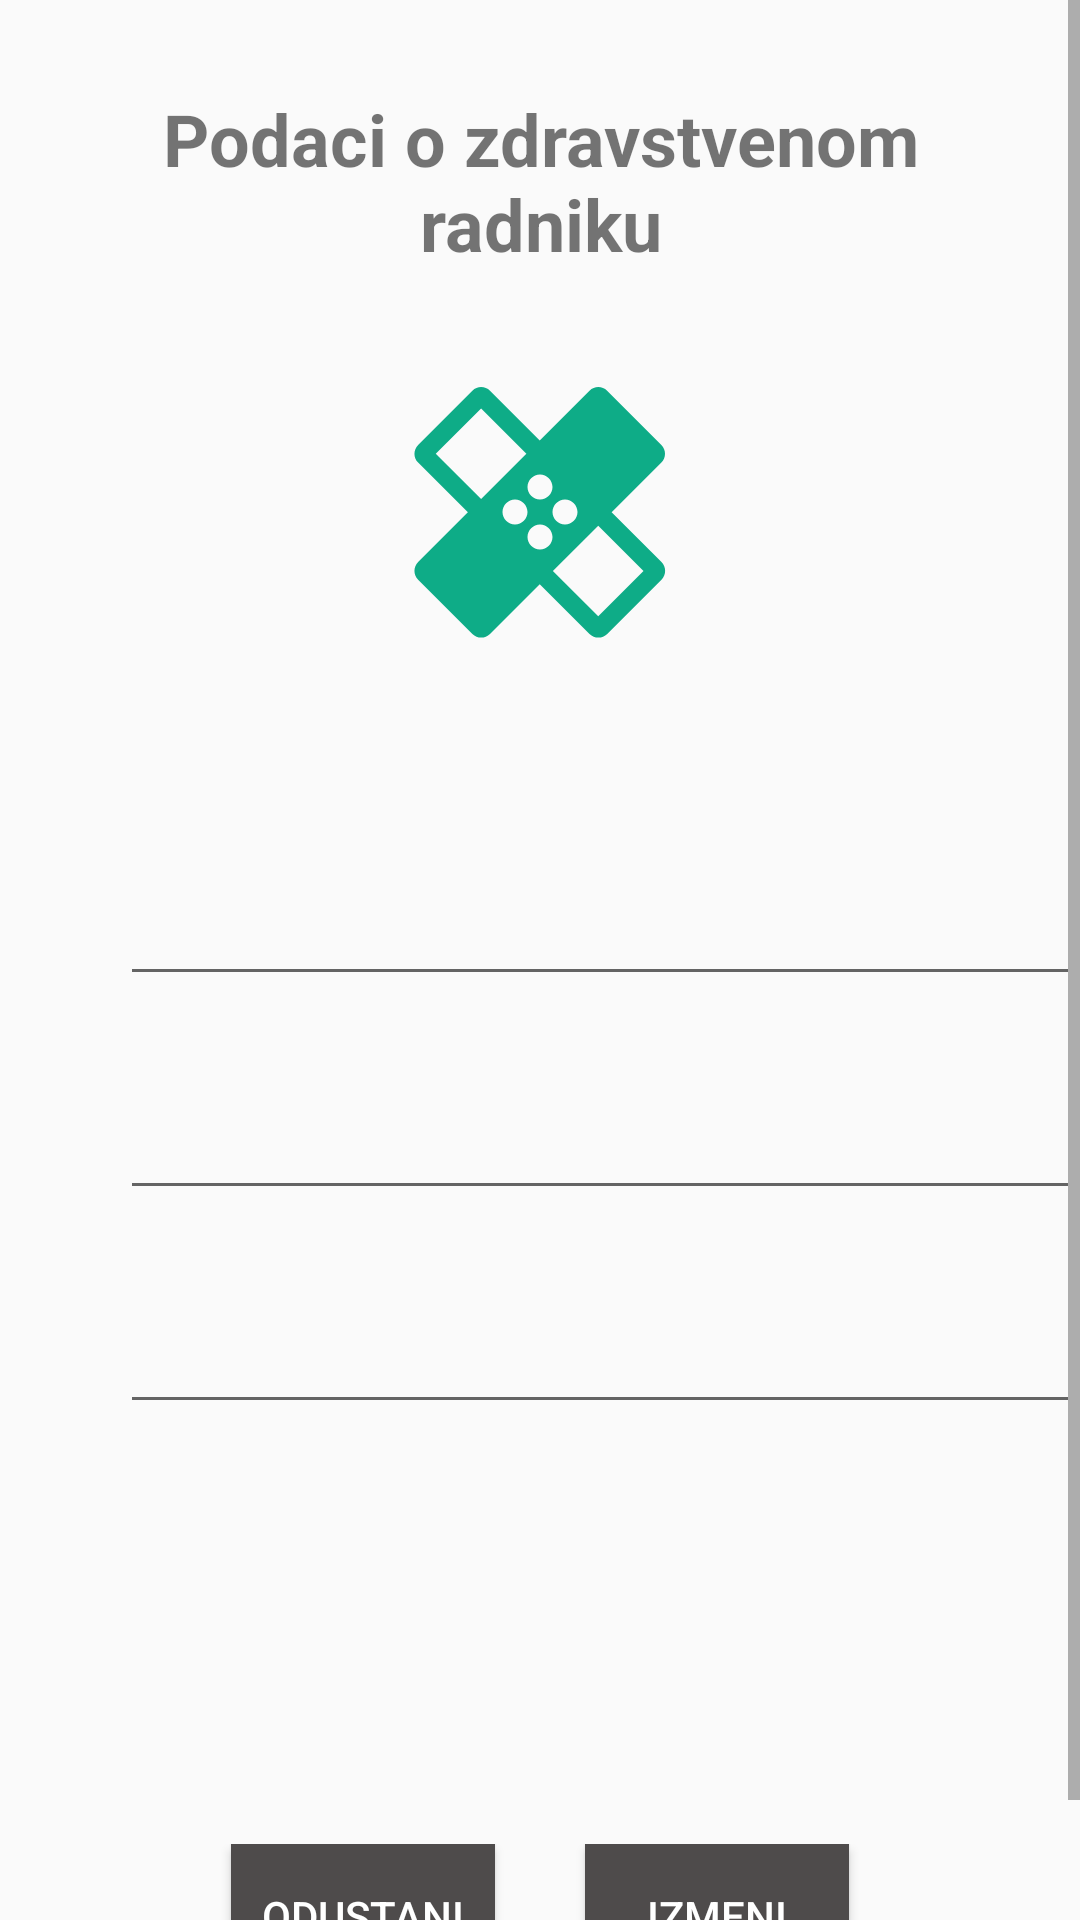

Icons on this 1080x1920 Android screen, each with the point to tap as (x=x, y=y):
healing: (x=539, y=512)
